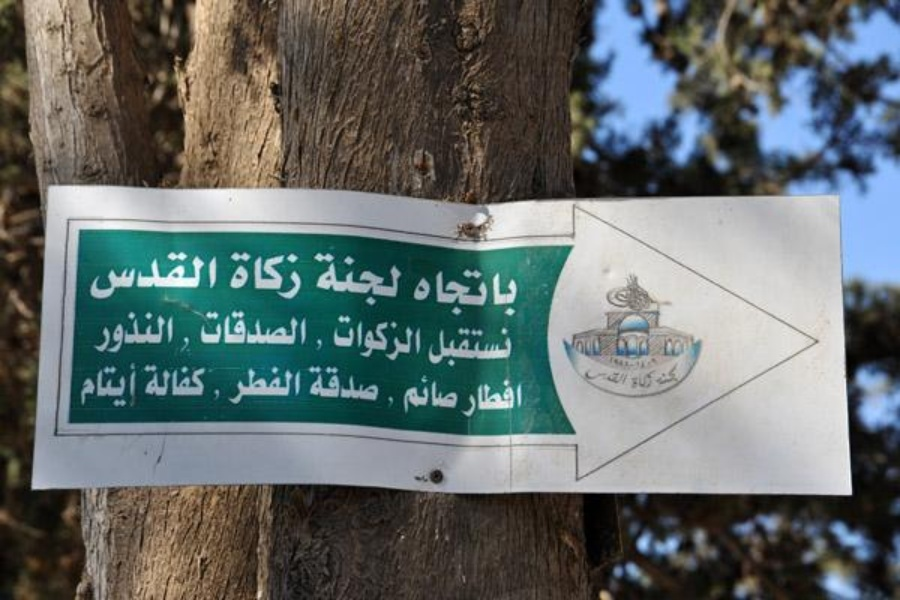text: (321, 241, 336, 310), (337, 241, 352, 310), (353, 241, 368, 310), (369, 241, 384, 310), (385, 241, 400, 310), (289, 250, 305, 302), (417, 266, 432, 320), (433, 266, 448, 320), (449, 266, 464, 320), (465, 266, 480, 320), (481, 266, 496, 320), (497, 266, 512, 320), (225, 250, 240, 302), (241, 250, 256, 302), (257, 250, 272, 302), (273, 250, 288, 302), (81, 359, 96, 410), (97, 359, 112, 410), (113, 359, 128, 410), (97, 251, 112, 301), (113, 251, 128, 301), (129, 251, 144, 301), (145, 251, 160, 301), (161, 251, 176, 301), (177, 251, 192, 301), (193, 251, 208, 301), (337, 314, 352, 364), (353, 314, 368, 364), (369, 314, 384, 364), (385, 314, 400, 364), (401, 314, 416, 364), (401, 368, 416, 417), (417, 368, 432, 417), (433, 368, 448, 417), (97, 311, 112, 359), (113, 311, 128, 359), (129, 311, 144, 359), (145, 311, 160, 359), (161, 311, 176, 359), (209, 308, 224, 350), (225, 308, 240, 350), (241, 308, 256, 350), (257, 308, 272, 350), (273, 308, 288, 350), (289, 308, 304, 350), (433, 328, 448, 368), (449, 328, 464, 368), (465, 328, 480, 368), (481, 328, 496, 368), (497, 328, 512, 368), (481, 379, 496, 419), (497, 379, 512, 419), (321, 364, 336, 404), (337, 364, 352, 404), (353, 364, 368, 404), (241, 367, 256, 406), (257, 367, 272, 406), (273, 367, 288, 406), (466, 379, 480, 419), (145, 364, 160, 401), (161, 364, 176, 401), (177, 364, 192, 401), (209, 251, 220, 301), (369, 364, 382, 404), (129, 359, 139, 410), (227, 367, 240, 406), (289, 367, 302, 406), (193, 364, 206, 401), (308, 364, 320, 404), (657, 358, 672, 388), (449, 368, 458, 417), (513, 266, 521, 320), (513, 379, 523, 419), (199, 308, 208, 350), (641, 368, 656, 392), (417, 314, 424, 364), (593, 367, 608, 389), (609, 367, 624, 389), (386, 391, 400, 413), (316, 241, 320, 310), (91, 251, 96, 301), (331, 314, 336, 364), (181, 335, 192, 355), (305, 308, 310, 350), (673, 358, 680, 388), (401, 241, 404, 310), (632, 368, 640, 392), (413, 266, 416, 320), (428, 328, 432, 368), (214, 388, 224, 404), (321, 332, 325, 355), (625, 367, 629, 389), (513, 328, 515, 368), (317, 332, 320, 355), (223, 250, 224, 302), (95, 311, 96, 359), (590, 367, 592, 389), (143, 364, 144, 401), (655, 358, 656, 388)
